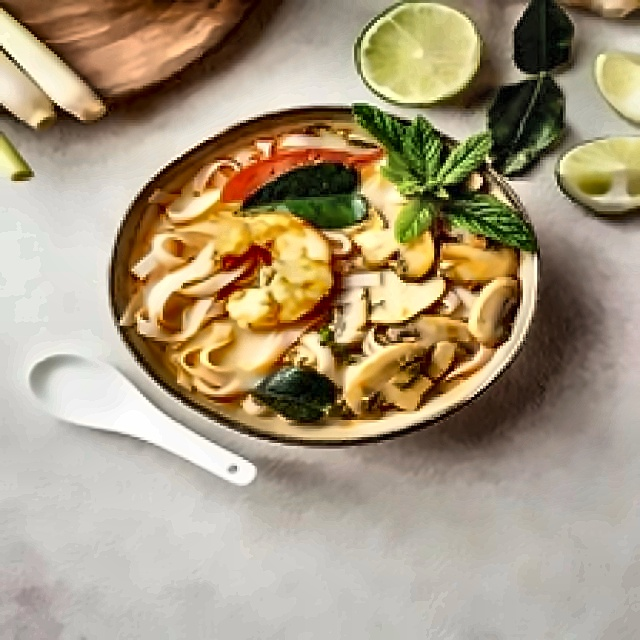lime_wedge: (354, 0, 480, 103), (589, 49, 637, 122)
noodle: (132, 200, 220, 412)
shrimp: (221, 212, 338, 318)
